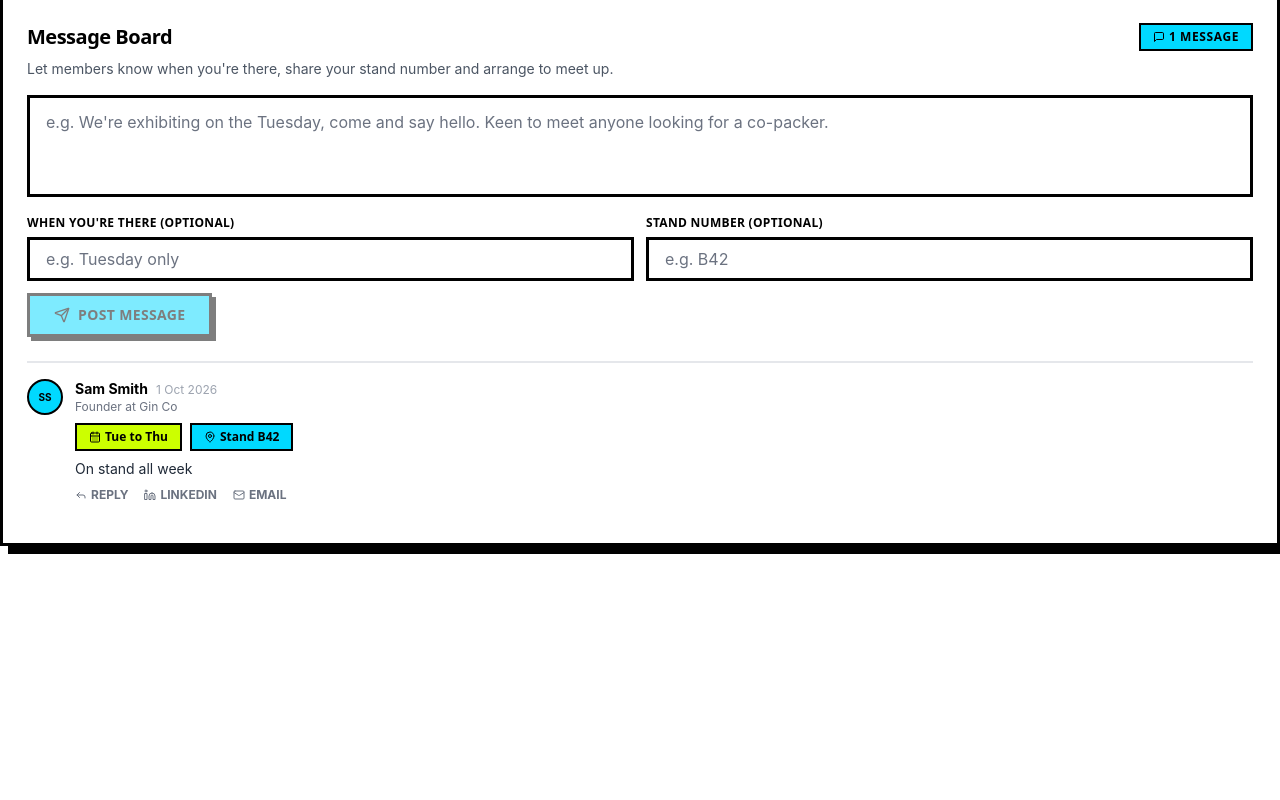
EventMessageBoard › sends replies with the parent id and nests them
The image size is (1280, 800).
Click the button "Reply". click: (102, 495)
box: [75,487,128,503]
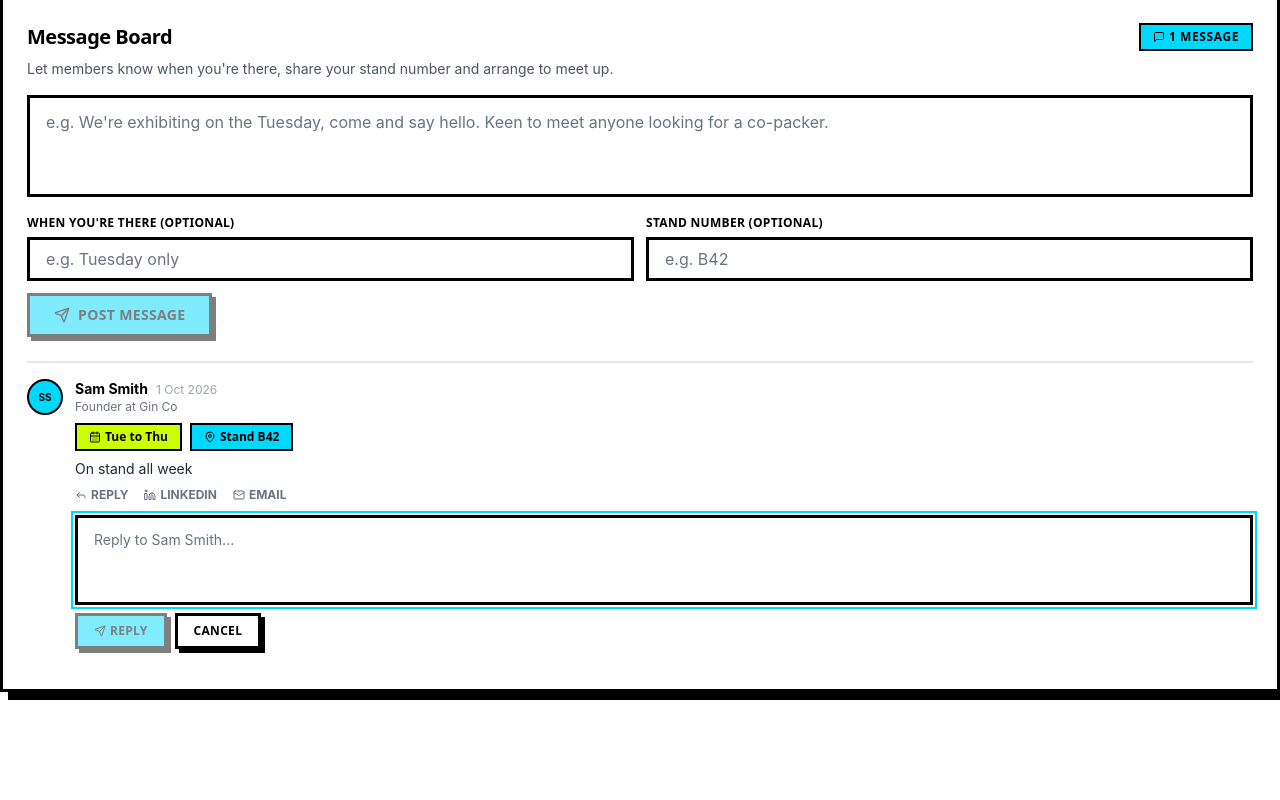
Type "See you there" into the text box with placeholder "Reply to Sam Smith...". click: (664, 560)
box: [75,515,1253,605]
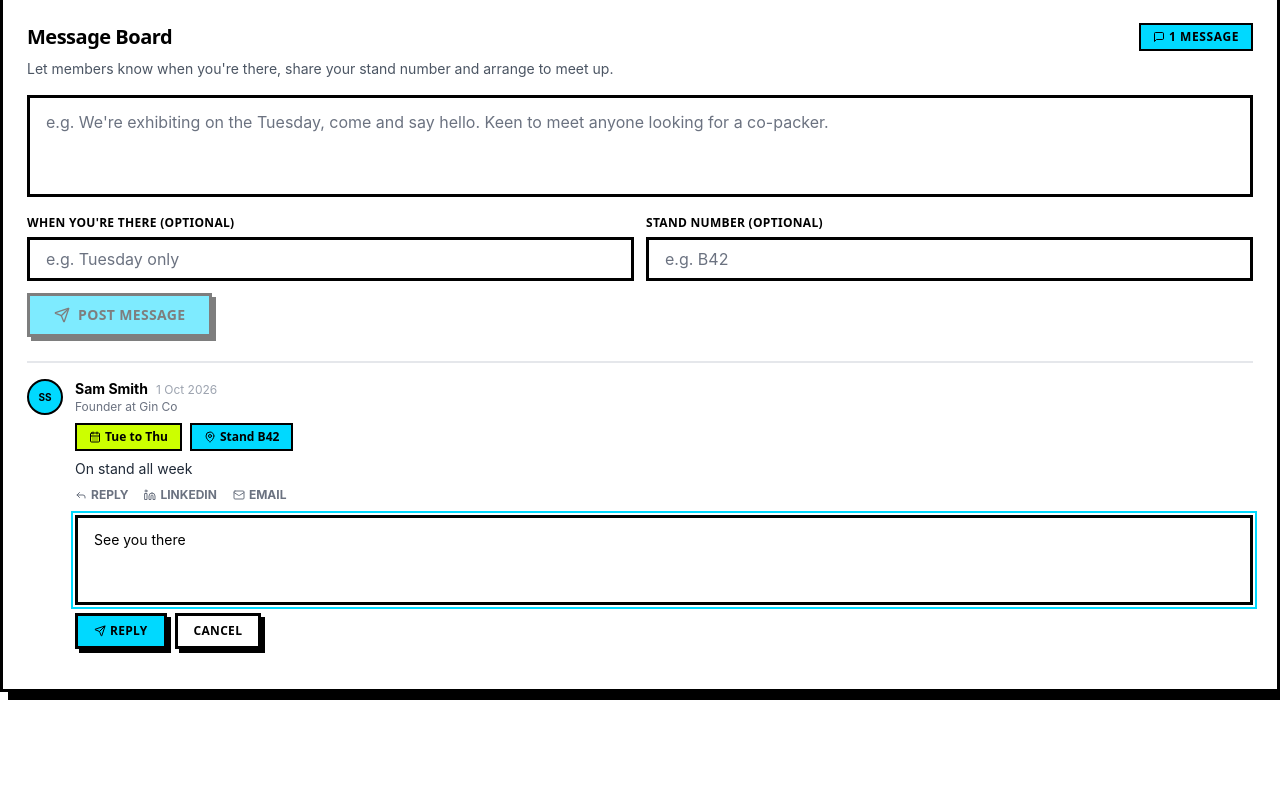
Click the 2nd button "Reply". click: (121, 631)
box: [75,613,167,649]
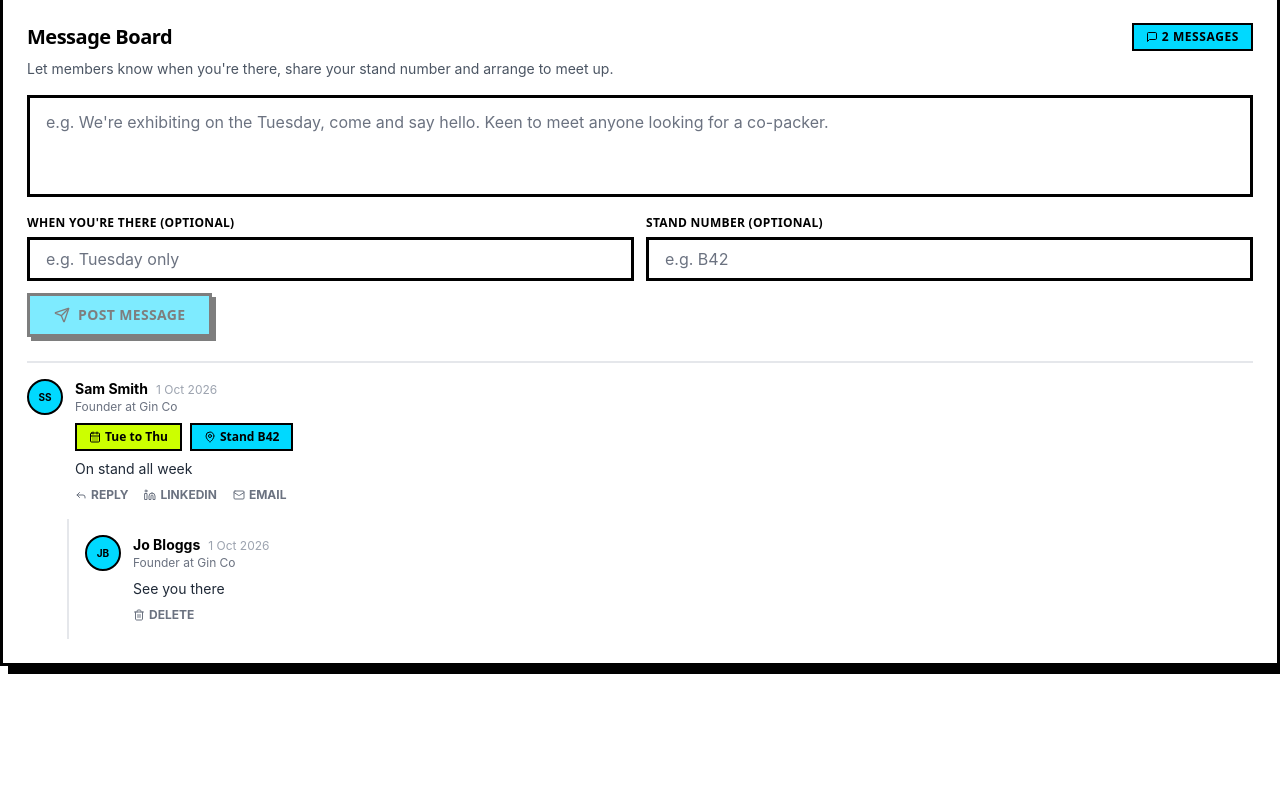
Check: the text "See you there" is shown, box [133,580,225,597]
